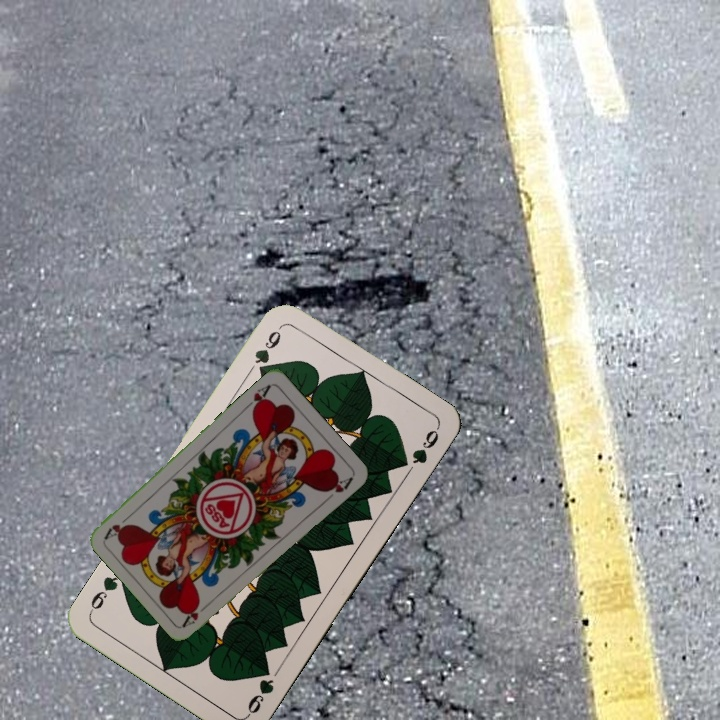G9: (243, 661, 277, 719), (250, 322, 285, 378)
HA: (240, 380, 274, 415), (179, 598, 213, 629)
